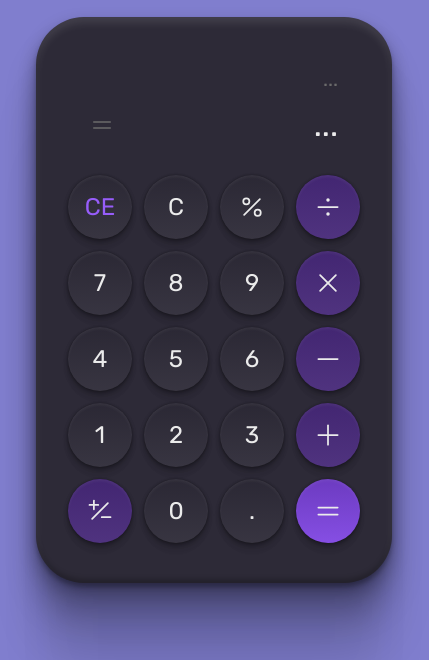
Use the basic calculator operations › multiplication two numbers
Click the text with id "key-9".
click(252, 283)  # box [220,251,284,315]
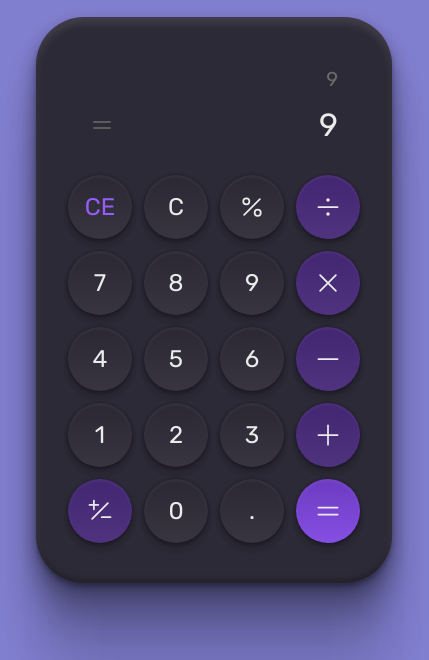
Click the element with id "key-multiplication".
click(328, 283)  # box [296,251,360,315]
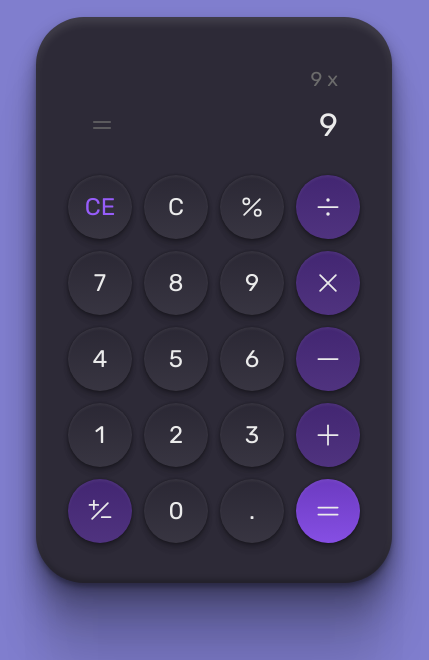
Click the text with id "key-9".
click(252, 283)  # box [220,251,284,315]
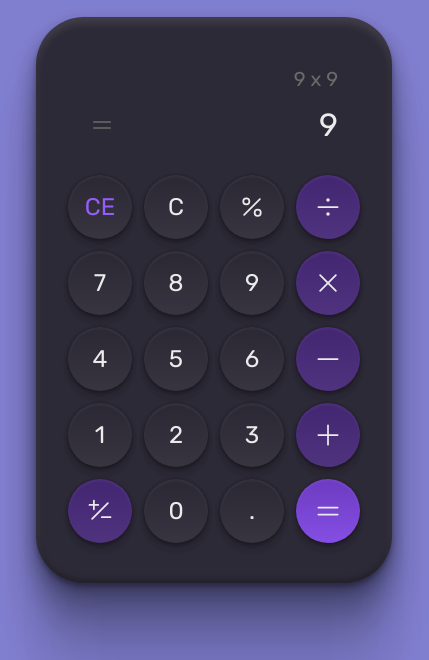
Expected: the text with class "head-calculator-operations" reads "9 x 9", [294,65,338,93]
Click the element with id "key-equals".
click(328, 511)  # box [296,479,360,543]
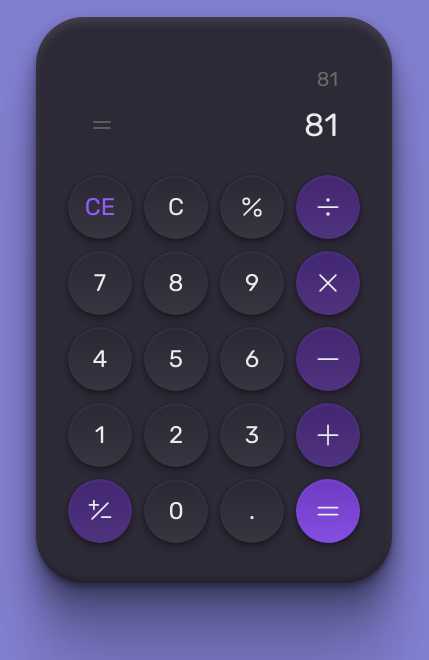
Expected: the text with class "head-calculator-operations" reads "81", [317,65,338,93]
Expected: the text with id "result" reads "81", [304,101,338,149]
